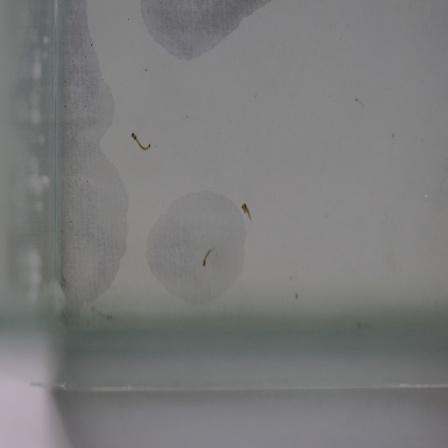Jentik-Nyamuk: (126, 129, 153, 155), (236, 199, 259, 227), (199, 243, 218, 271)
